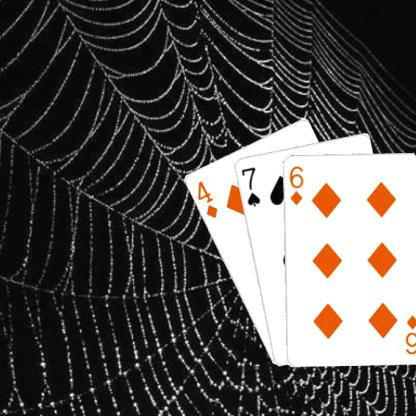4D: (194, 178, 218, 220)
6D: (286, 163, 304, 206), (402, 312, 416, 354)
7S: (238, 164, 261, 207)
